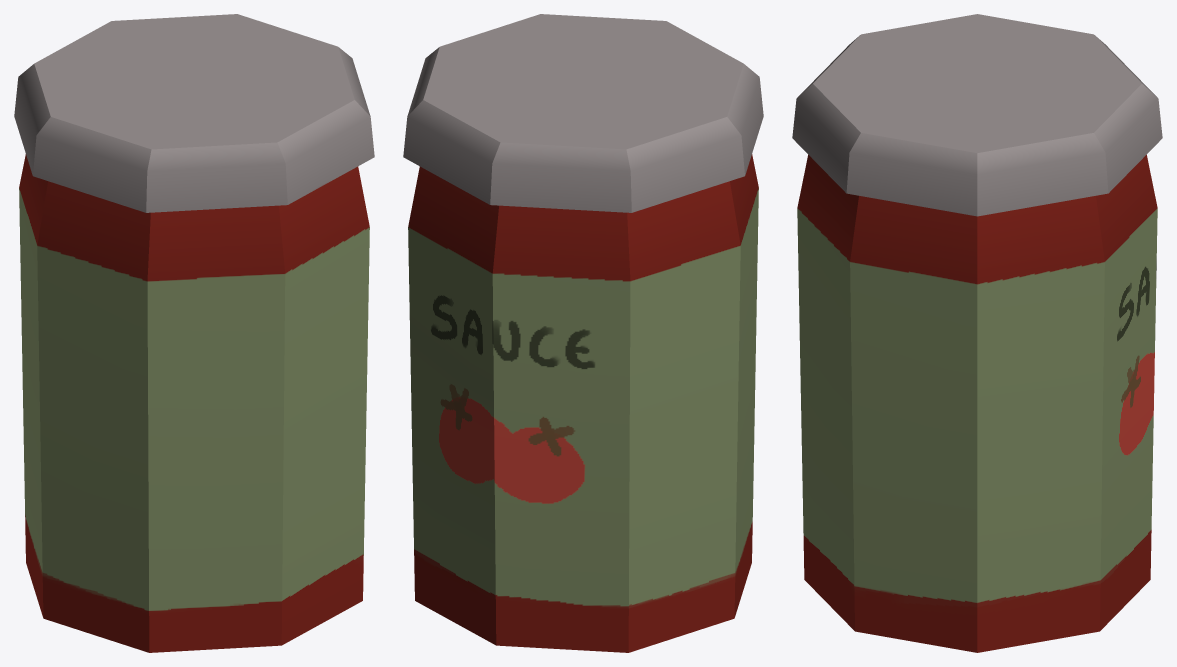
File: sauce.fbx
The picture shows the model from 3 angles, left to right: view 1: azimuth 30°, elevation 25°; view 2: azimuth 150°, elevation 25°; view 3: azimuth 270°, elevation 25°; orthographic projection.
Parts seen in each view (by area): view 1: sauce; view 2: sauce; view 3: sauce.
Boxes of the visible parts, x1,y1,x2,y2 form: sauce: [14, 14, 374, 652]; sauce: [403, 14, 763, 652]; sauce: [792, 14, 1162, 652].
Bounding box in the file's own units: 27.18 × 40.17 × 27.18.
Materials: 1 (1 with a texture image).
